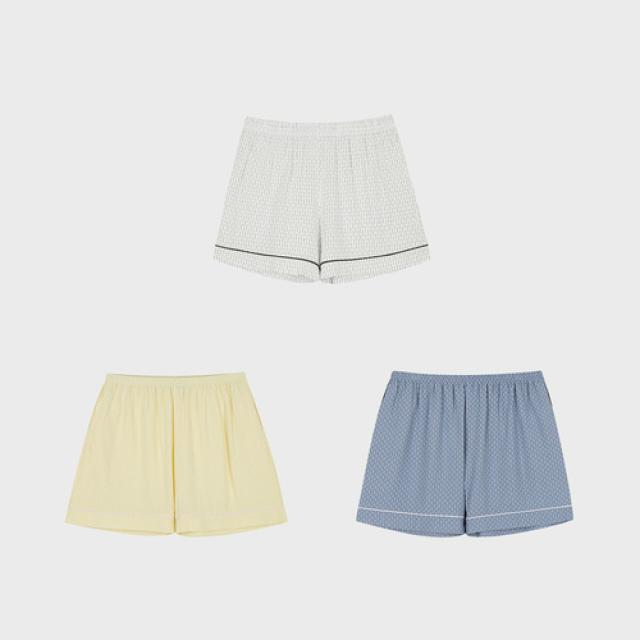Blouse_deep: (208, 125, 437, 288), (358, 370, 562, 532), (73, 378, 277, 523)
